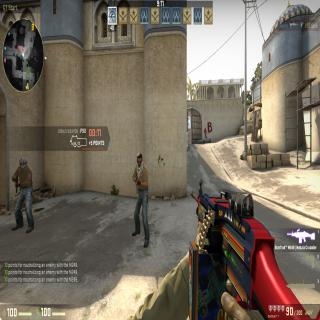T-Body: (12, 154, 32, 233), (133, 151, 148, 247)
T-Head: (135, 152, 144, 168), (18, 154, 27, 170)
